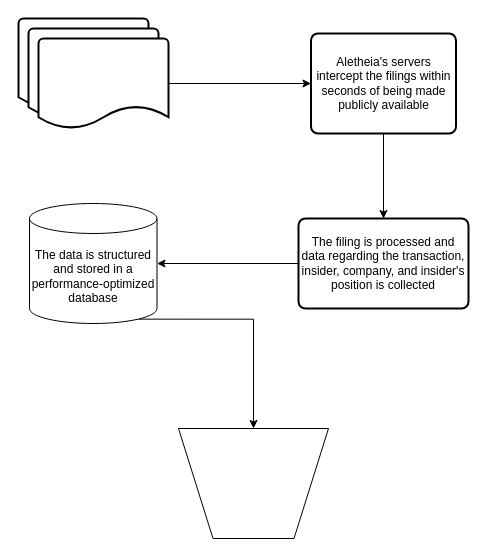
This 486x556 diagram has some shape labels left out. Here are the shapes that lost their labels. From the top down, the centre of each, then its label:
pixel 103 83: Form 3, 4, 5 filed with the SEC
pixel 253 483: User requests data via web-based REST API
